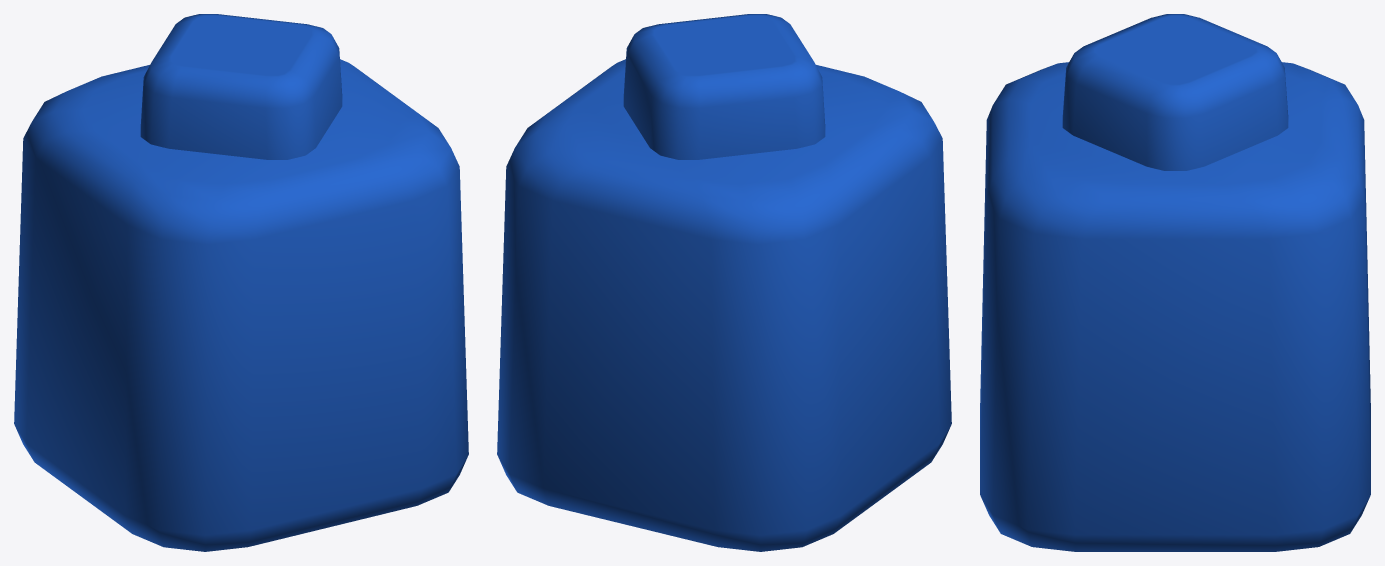
Rendered from block_diamond.fbx.
3 renders of one model, left to right at view 1: azimuth 30°, elevation 25°; view 2: azimuth 150°, elevation 25°; view 3: azimuth 270°, elevation 25°, orthographic. The views are drawn at different scales.
Visible parts, largest first — view 1: block_diamond; view 2: block_diamond; view 3: block_diamond.
Part boxes in pixels (x1,y1,x2,y2): block_diamond: (14, 14, 468, 551); block_diamond: (497, 14, 951, 551); block_diamond: (980, 14, 1370, 551).
Bounding box in the file's own units: 98.38 × 98.38 × 120.
